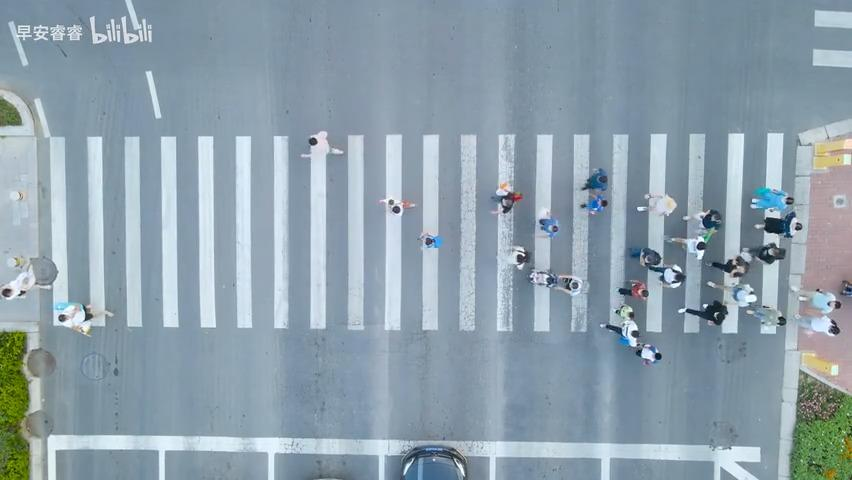Civilian: (0, 255, 58, 300), (790, 285, 841, 336), (56, 302, 114, 336), (663, 226, 719, 260), (528, 268, 582, 296), (677, 299, 728, 326), (753, 210, 802, 238), (706, 280, 757, 306), (299, 130, 343, 158), (749, 186, 794, 212), (793, 312, 840, 336), (489, 181, 522, 215), (614, 304, 640, 347), (705, 253, 751, 277), (636, 192, 677, 217), (741, 242, 786, 264), (647, 263, 686, 288), (745, 305, 786, 326), (682, 208, 722, 229), (377, 196, 416, 216), (580, 167, 608, 194), (629, 246, 662, 267), (537, 207, 559, 237), (617, 279, 648, 300), (634, 343, 662, 365), (579, 193, 607, 215), (507, 244, 528, 269), (417, 231, 442, 249)
